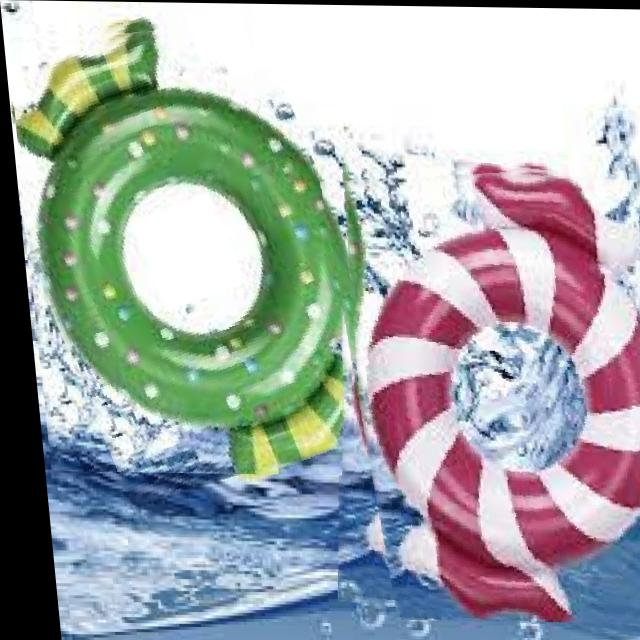lifesaver: (13, 30, 368, 474), (347, 170, 640, 621)
